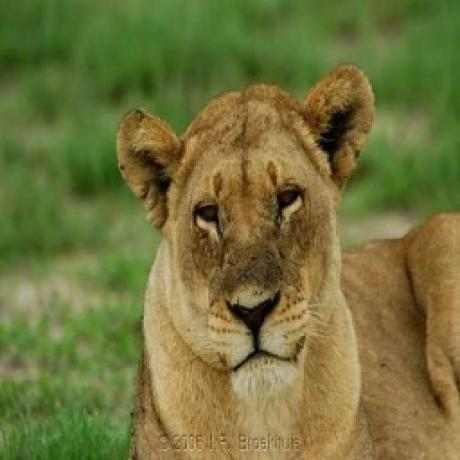Lion: (118, 62, 460, 459)
